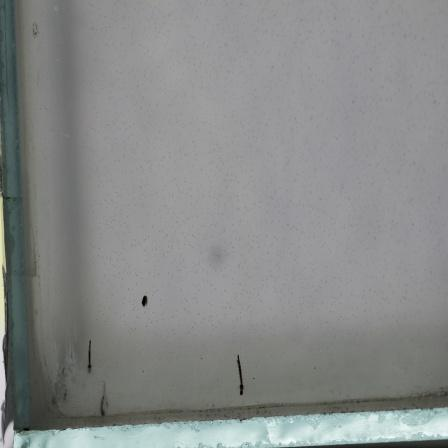Jentik-Nyamuk: (232, 351, 249, 402), (94, 392, 108, 420), (84, 337, 94, 374), (138, 292, 151, 311)
